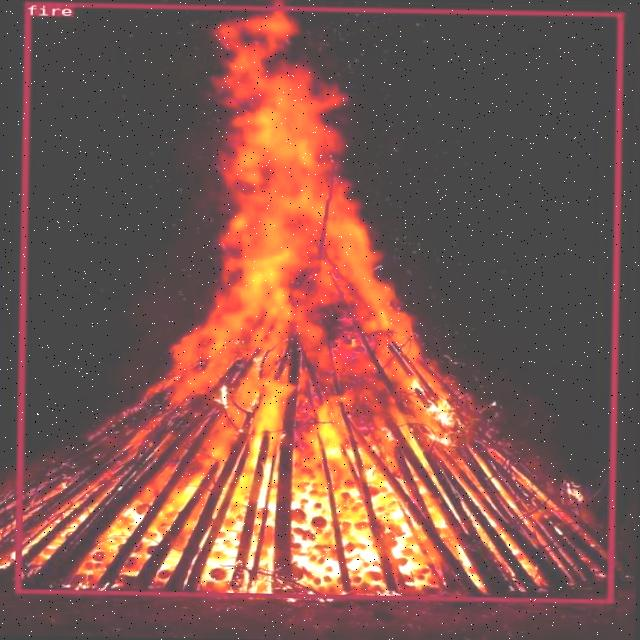fire: (14, 1, 622, 602)
